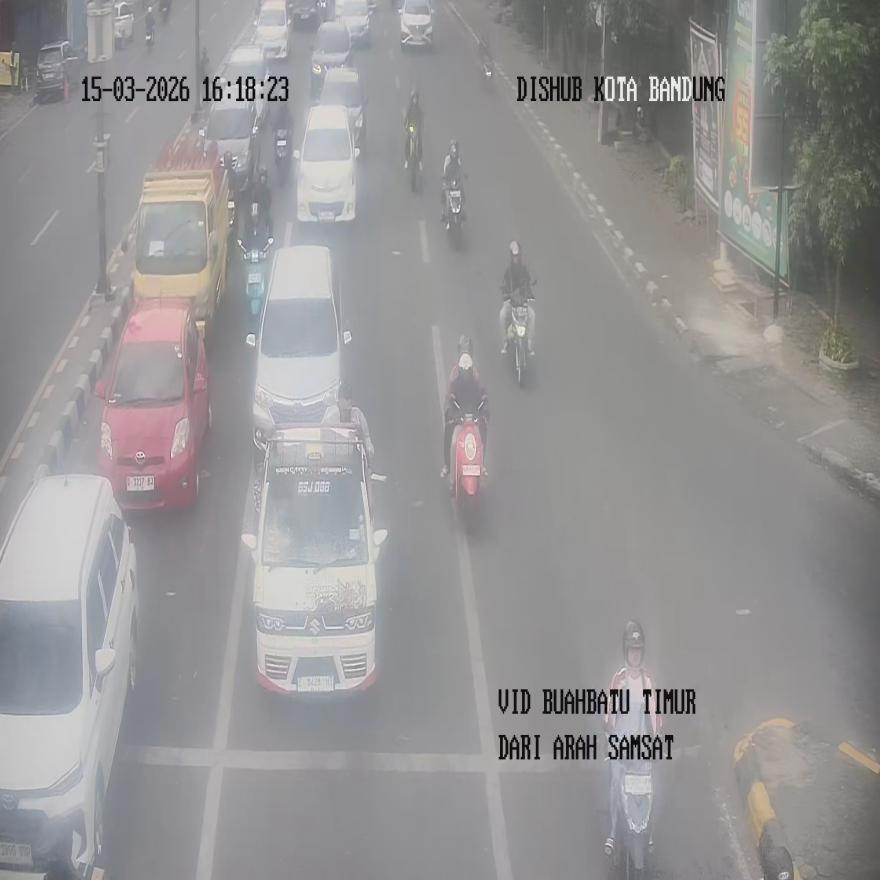Mobil: (0, 470, 139, 878), (241, 424, 388, 698), (95, 297, 211, 510), (246, 243, 351, 462), (296, 104, 359, 224)
Motor: (610, 747, 653, 880), (447, 408, 486, 526), (506, 297, 534, 387), (242, 236, 272, 316), (272, 107, 292, 181), (443, 178, 464, 242), (405, 121, 422, 192), (476, 33, 493, 88), (144, 5, 154, 49), (160, 0, 170, 22)
Truk ringan: (132, 137, 233, 338)
